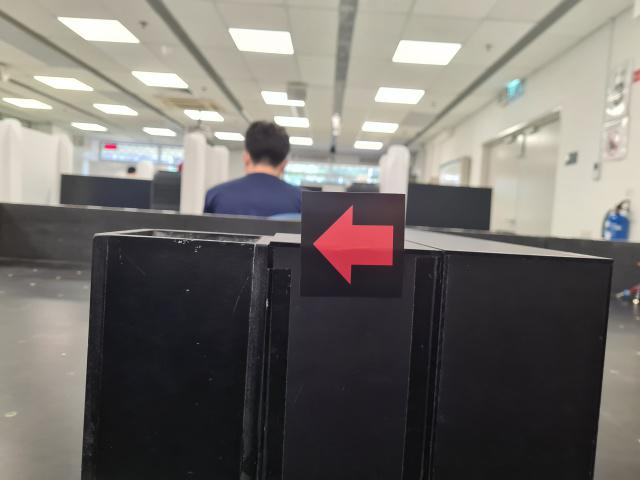left: (299, 191, 405, 302)
